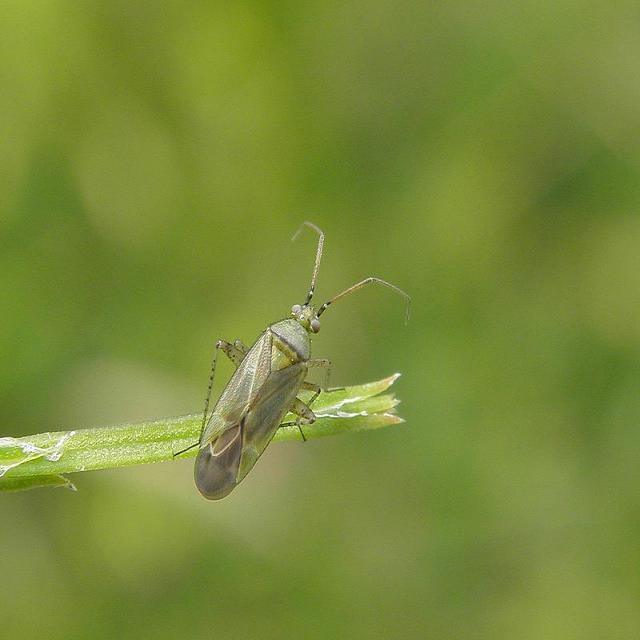Miridae-Adult-: (172, 210, 422, 500)
